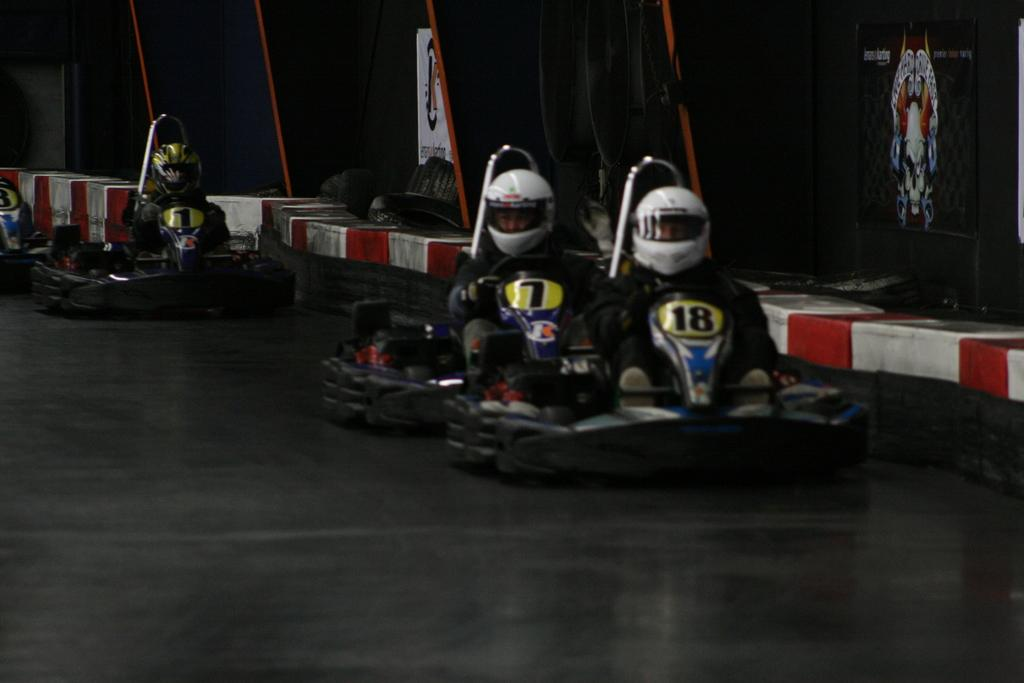helmet: (632, 186, 710, 276), (485, 169, 556, 256), (151, 143, 202, 201)
